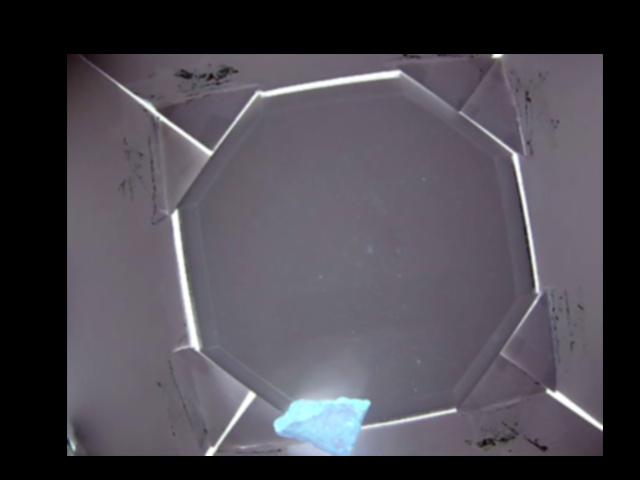Brisk: (273, 397, 371, 454)
